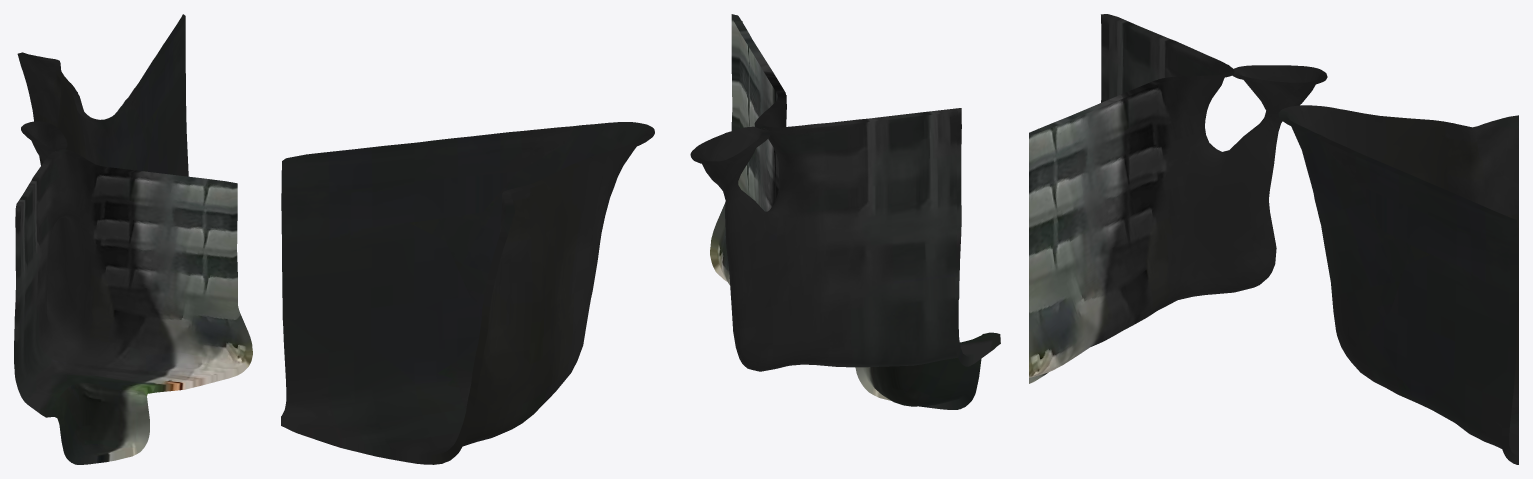
File: z20-167777-405237-h0-yup-uvflip-v3-world.glb
3 views of the same model, side by side, from view 1: azimuth 30°, elevation 25°; view 2: azimuth 150°, elevation 25°; view 3: azimuth 270°, elevation 25° (orthographic). The views are drawn at different scales.
Size of the model in its own units: 30.2 by 22.04 by 30.32.
1 material, 1 textured.
